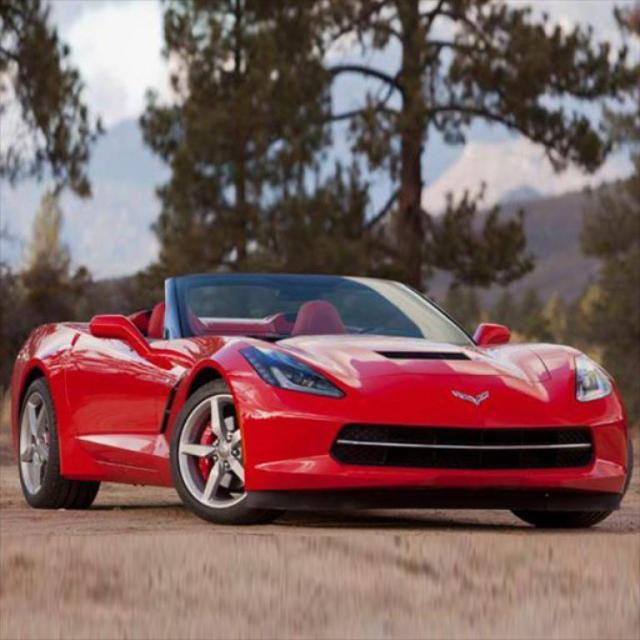car: (1, 268, 615, 524)
